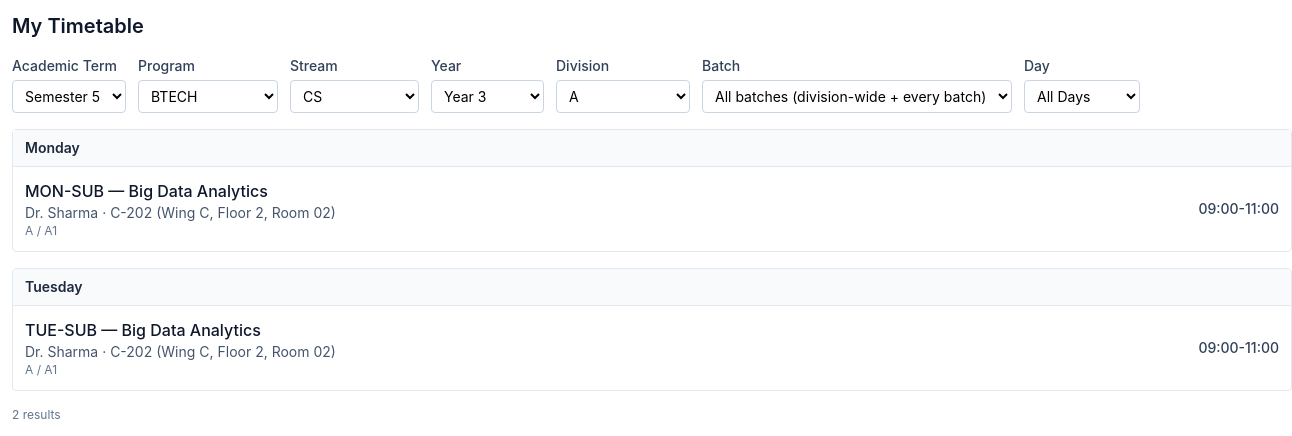
Test: StudentTimetablePage › filters displayed allocations by day
Expected: the text "MON-SUB — Big Data Analytics" is shown, [25,181,268,201]
Expected: the text "TUE-SUB — Big Data Analytics" is shown, [25,320,261,340]
Select "Monday" in the dropdown labelled "Day" at (1082, 96), box [1024,80,1140,113]
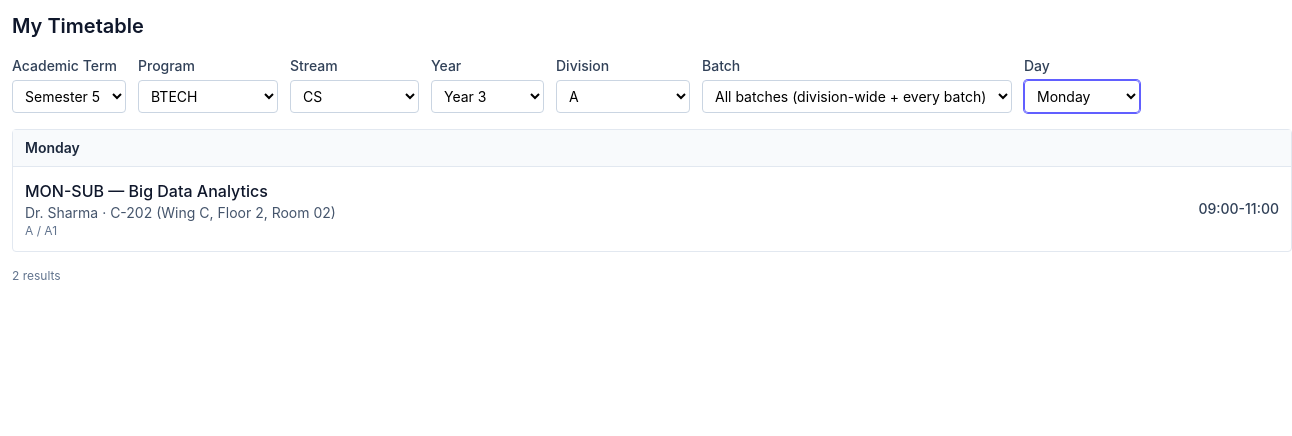
Expected: the text "MON-SUB — Big Data Analytics" is shown, [25,181,268,201]
Expected: the text "TUE-SUB" is gone
